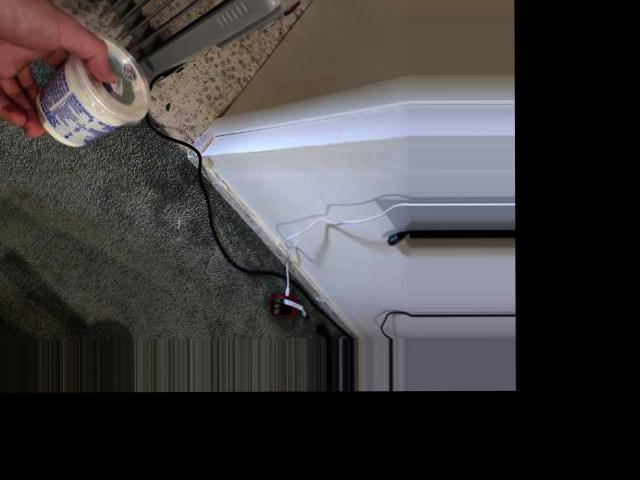cotage: (28, 42, 146, 148)
